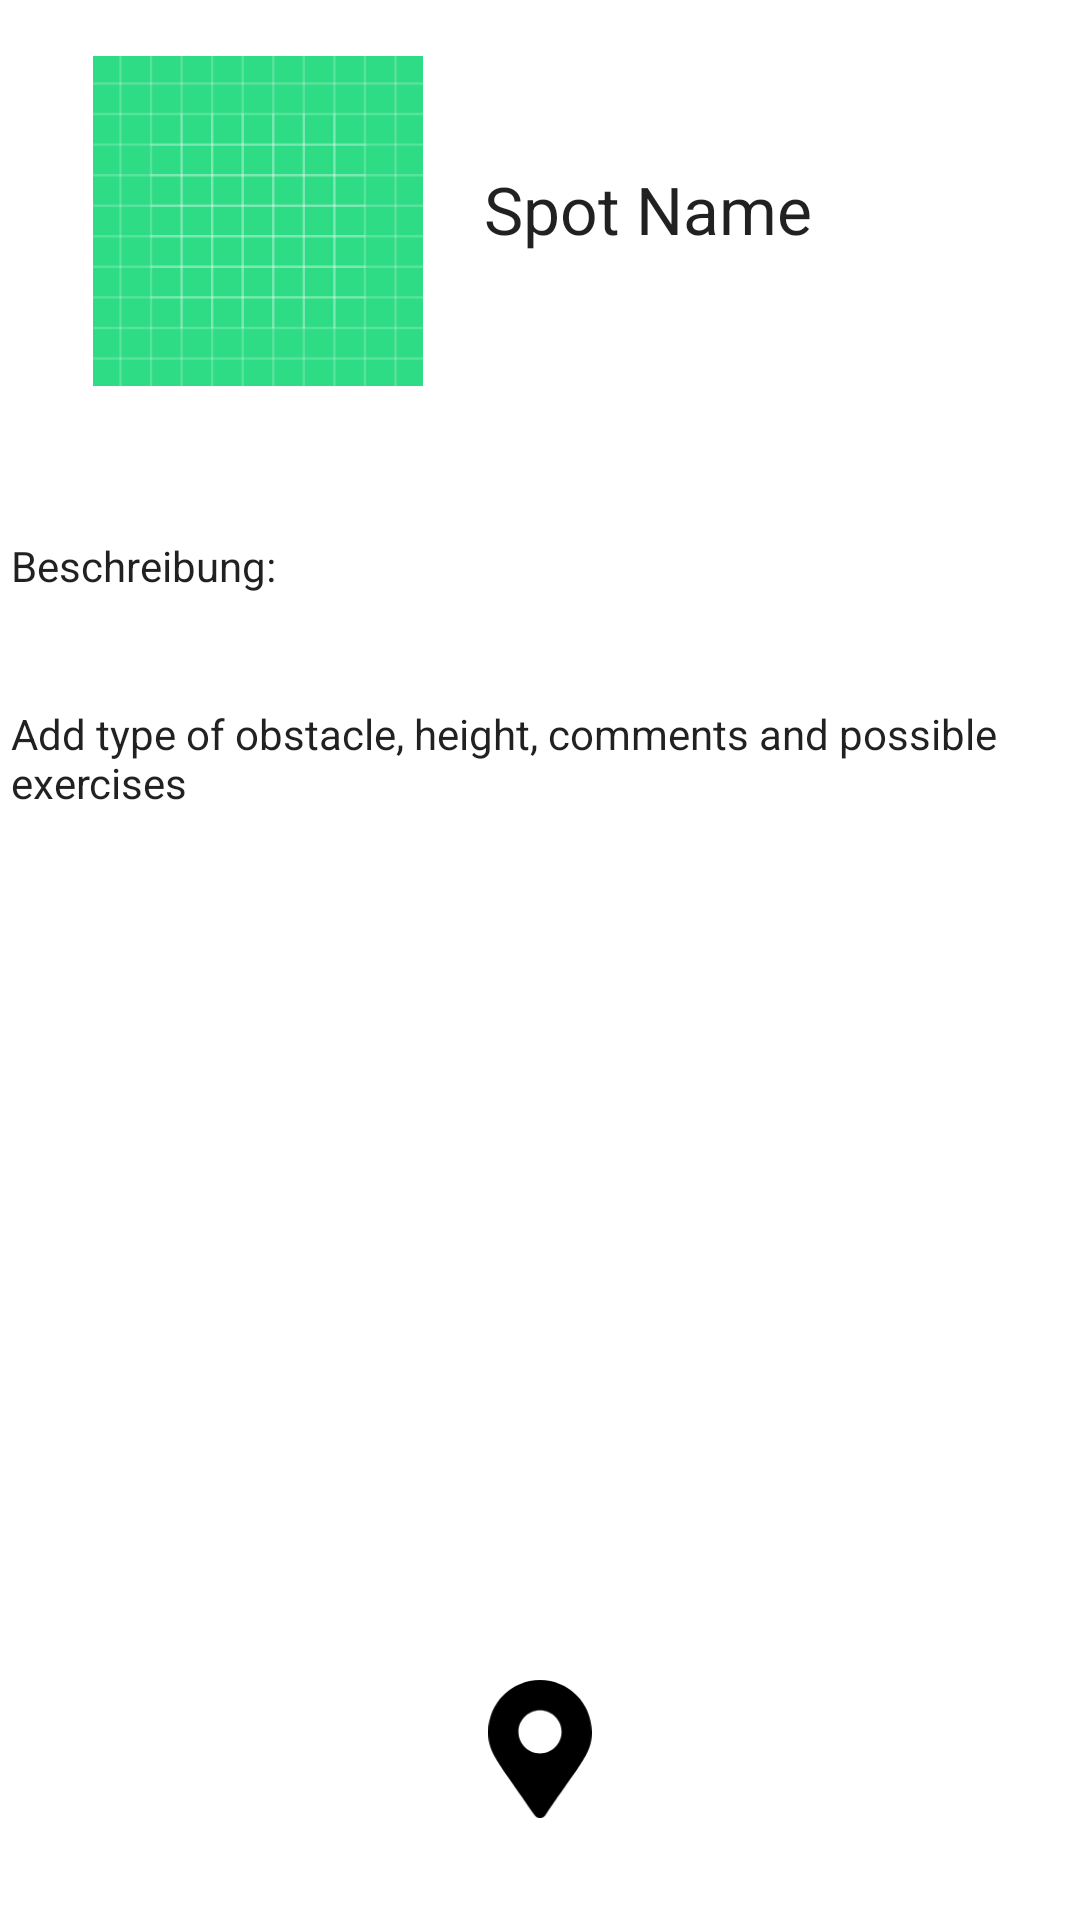

Named icons in this screenshot (1080px×1920px) and their bounding boxes, rect(x1, y1, x2, y2):
map marker: rect(488, 1680, 592, 1818)
